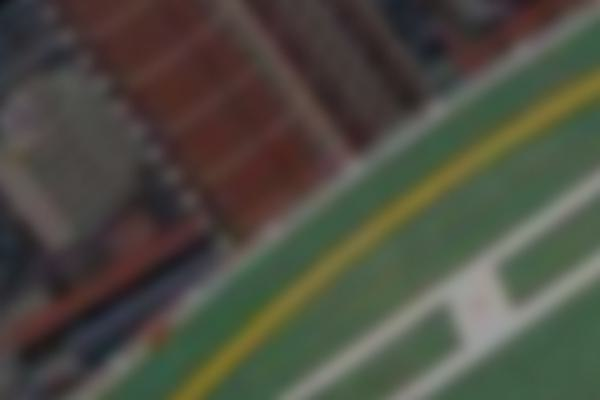Apron: (124, 55, 600, 400)
